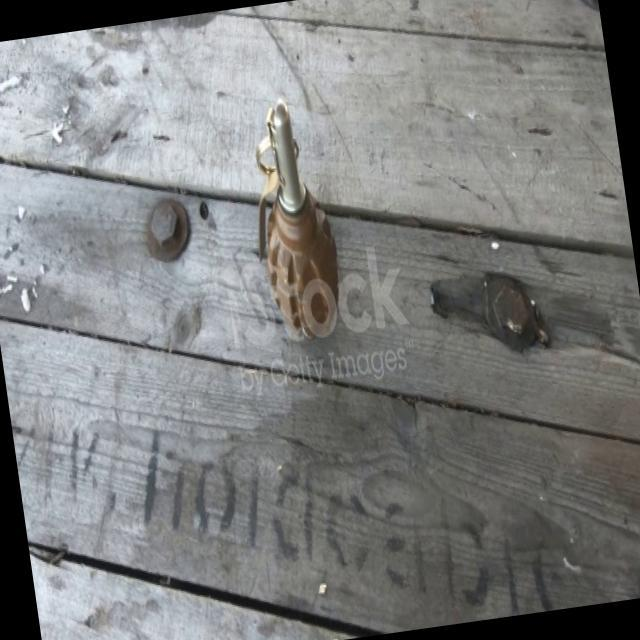grenade: (237, 102, 349, 354)
